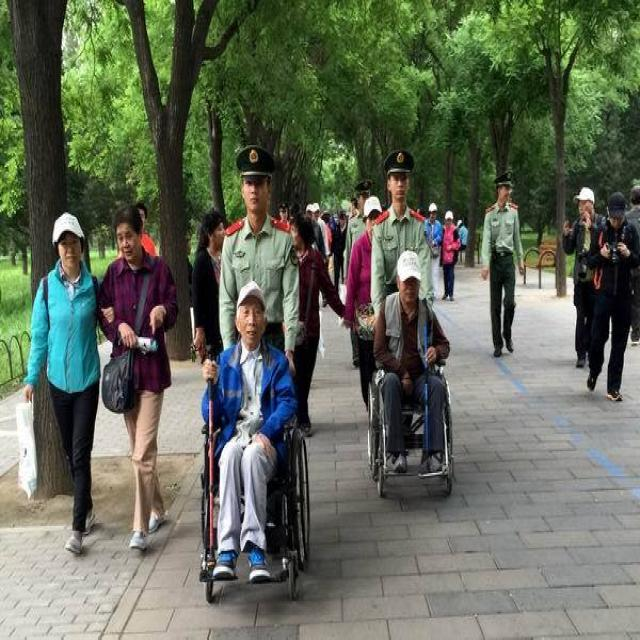wheelchairs: (188, 354, 314, 612), (359, 334, 461, 503)
